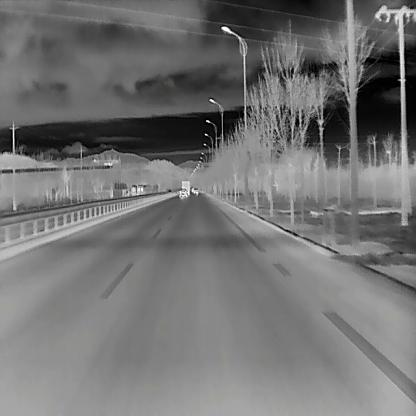car: (178, 187, 188, 198), (193, 187, 198, 194)
truck: (180, 180, 190, 195)
